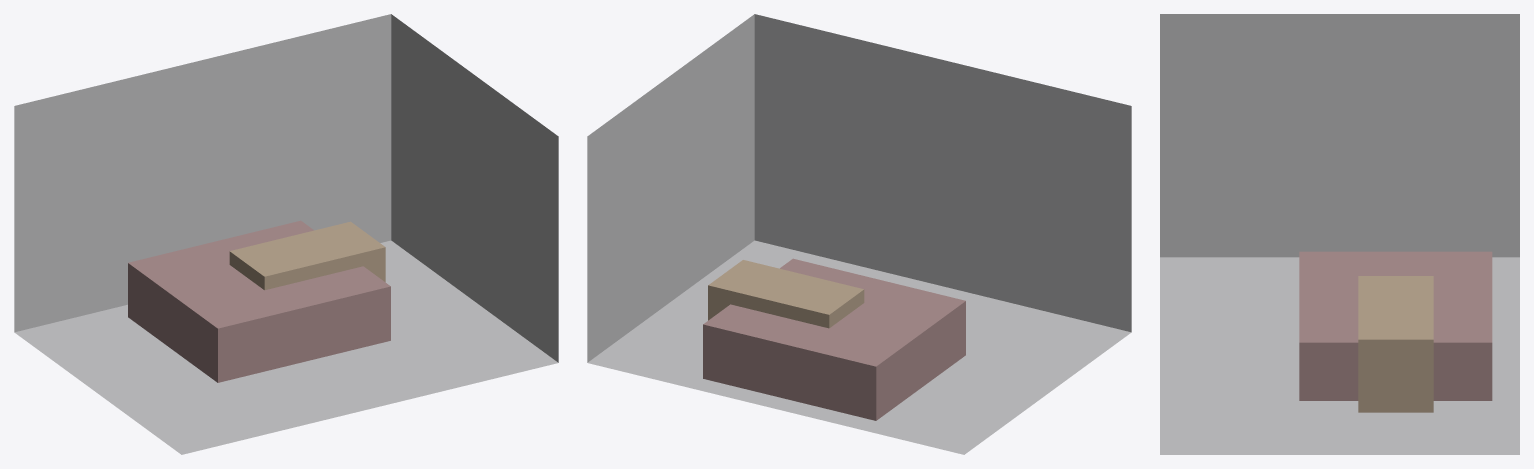
The model's file is current_layout.glb.
3 renders of one model, left to right at view 1: azimuth 30°, elevation 25°; view 2: azimuth 150°, elevation 25°; view 3: azimuth 270°, elevation 25°, orthographic. The views are drawn at different scales.
Visible parts, largest first — view 1: room, bed, desk; view 2: room, bed, desk; view 3: room, bed, desk.
Part boxes in pixels (box(x1,y1,x2,y2)): room: box(14, 14, 558, 454); bed: box(128, 220, 390, 382); desk: box(229, 221, 385, 290); room: box(587, 14, 1131, 454); bed: box(703, 258, 965, 420); desk: box(708, 260, 864, 328); room: box(1160, 14, 1519, 454); bed: box(1299, 251, 1492, 400); desk: box(1358, 276, 1433, 412).
Size of the model in its own units: 4.36 by 2.5 by 3.35.
